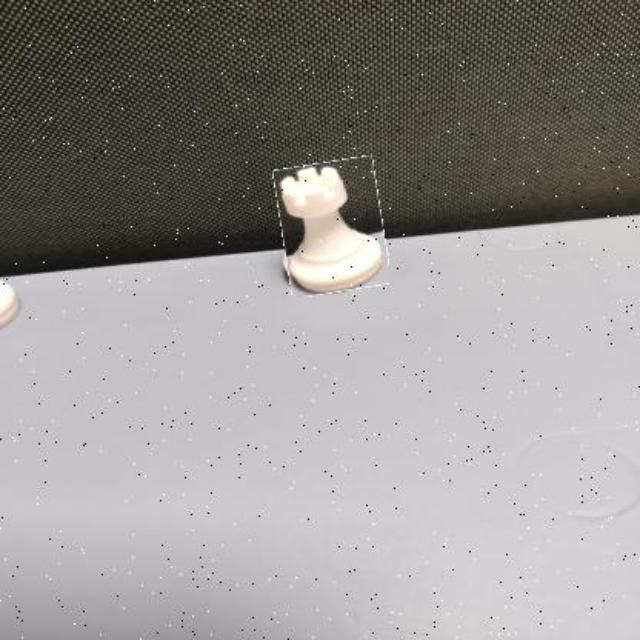white-rook: (278, 161, 386, 295)
